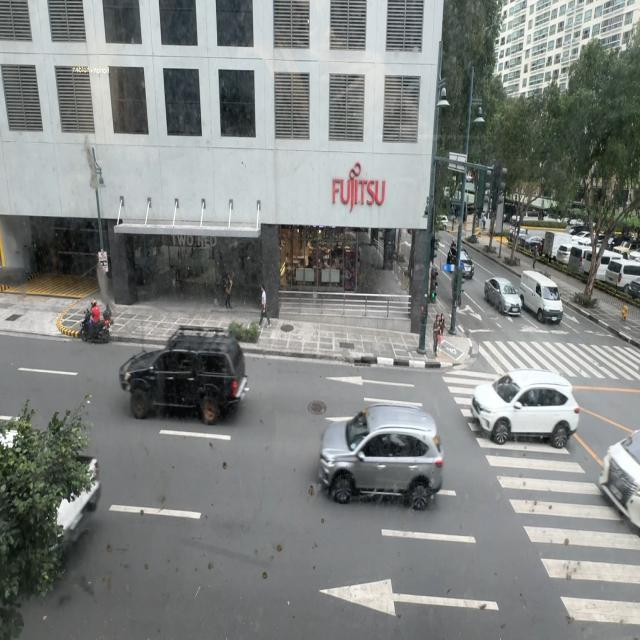waiting: (434, 313, 444, 357)
